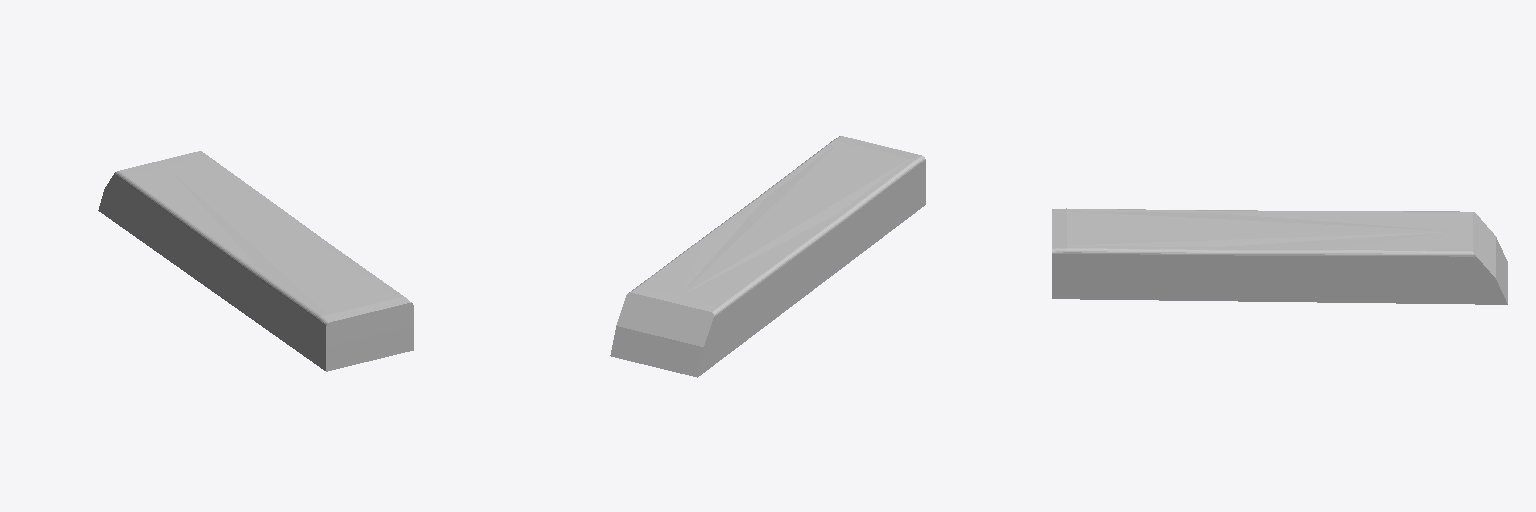
The model's file is reload moving boi.obj.
3 views of the same model, side by side, from view 1: azimuth 30°, elevation 25°; view 2: azimuth 150°, elevation 25°; view 3: azimuth 270°, elevation 25° (orthographic).
Parts seen in each view (by area): view 1: reload_moving_boi_Cube.001; view 2: reload_moving_boi_Cube.001; view 3: reload_moving_boi_Cube.001.
Part boxes in pixels (left/top/right/bottom): reload_moving_boi_Cube.001: left=98, top=151, right=413, bottom=371; reload_moving_boi_Cube.001: left=610, top=136, right=925, bottom=377; reload_moving_boi_Cube.001: left=1052, top=208, right=1507, bottom=304.
Size of the model in its own units: 0.9578 by 0.5774 by 4.33.